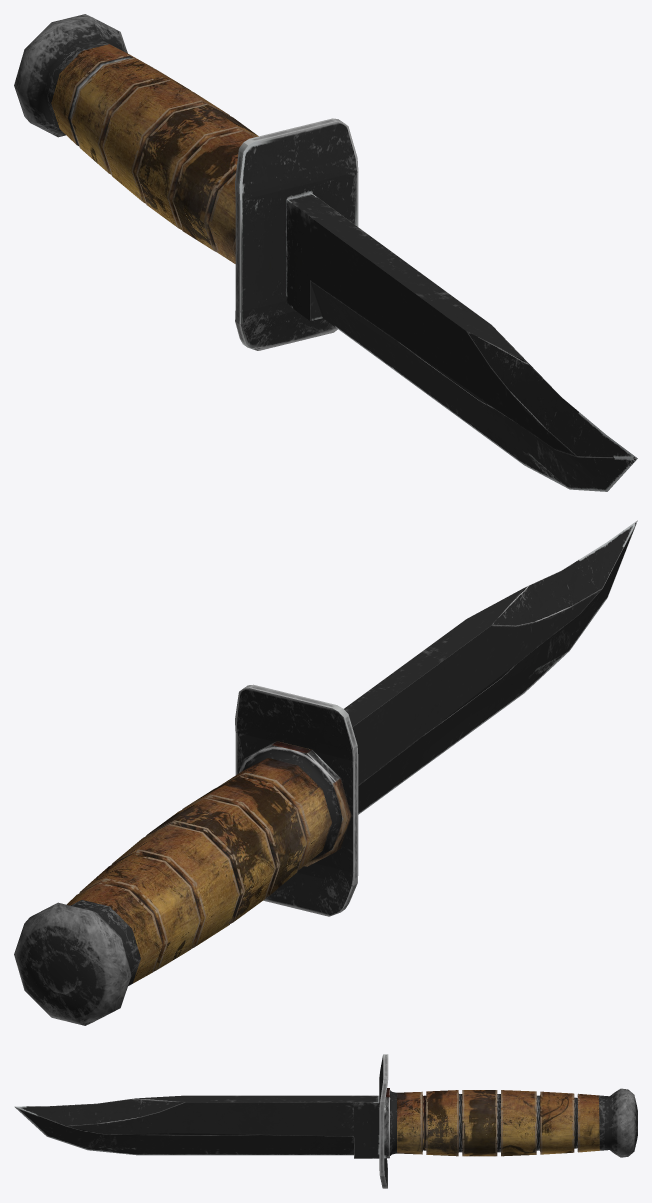
Rendered from ka-bar_knife.glb.
The picture shows the model from 3 angles, top to bottom: view 1: azimuth 30°, elevation 25°; view 2: azimuth 150°, elevation 25°; view 3: azimuth 270°, elevation 25°; orthographic projection. The views are drawn at different scales.
Visible parts, largest first — view 1: Blade_Low, Handel_Low, Guard_Low; view 2: Handel_Low, Blade_Low, Guard_Low; view 3: Blade_Low, Handel_Low, Guard_Low.
Part boxes in pixels (box(x1,y1,x2,y2)): Blade_Low: box(286, 193, 637, 491); Handel_Low: box(14, 14, 258, 263); Guard_Low: box(235, 118, 358, 350); Handel_Low: box(14, 741, 351, 1025); Blade_Low: box(344, 520, 637, 814); Guard_Low: box(235, 684, 358, 916); Blade_Low: box(14, 1095, 379, 1158); Handel_Low: box(384, 1088, 637, 1158); Guard_Low: box(379, 1054, 388, 1188).
Bounding box in the file's own units: 0.236 × 0.3998 × 2.
1 material, 1 textured.
